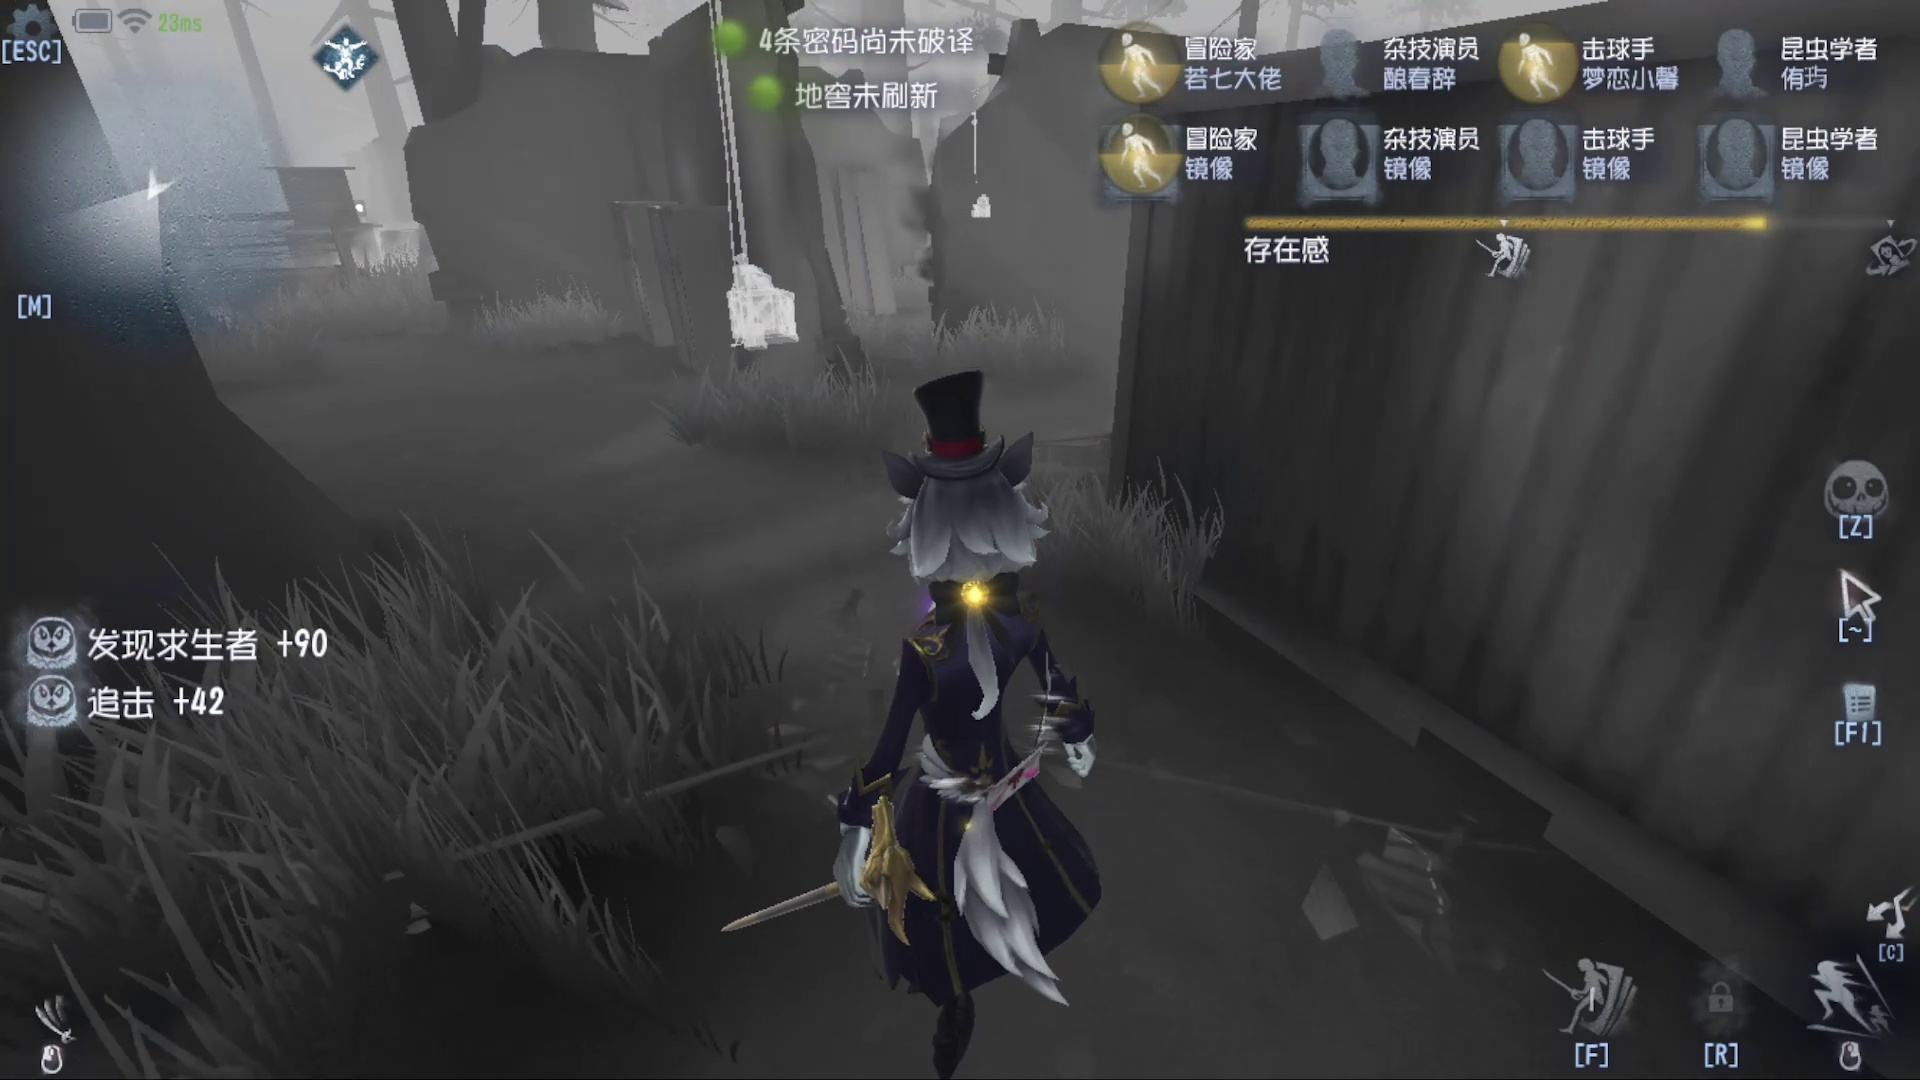密码机: (711, 231, 820, 351)
